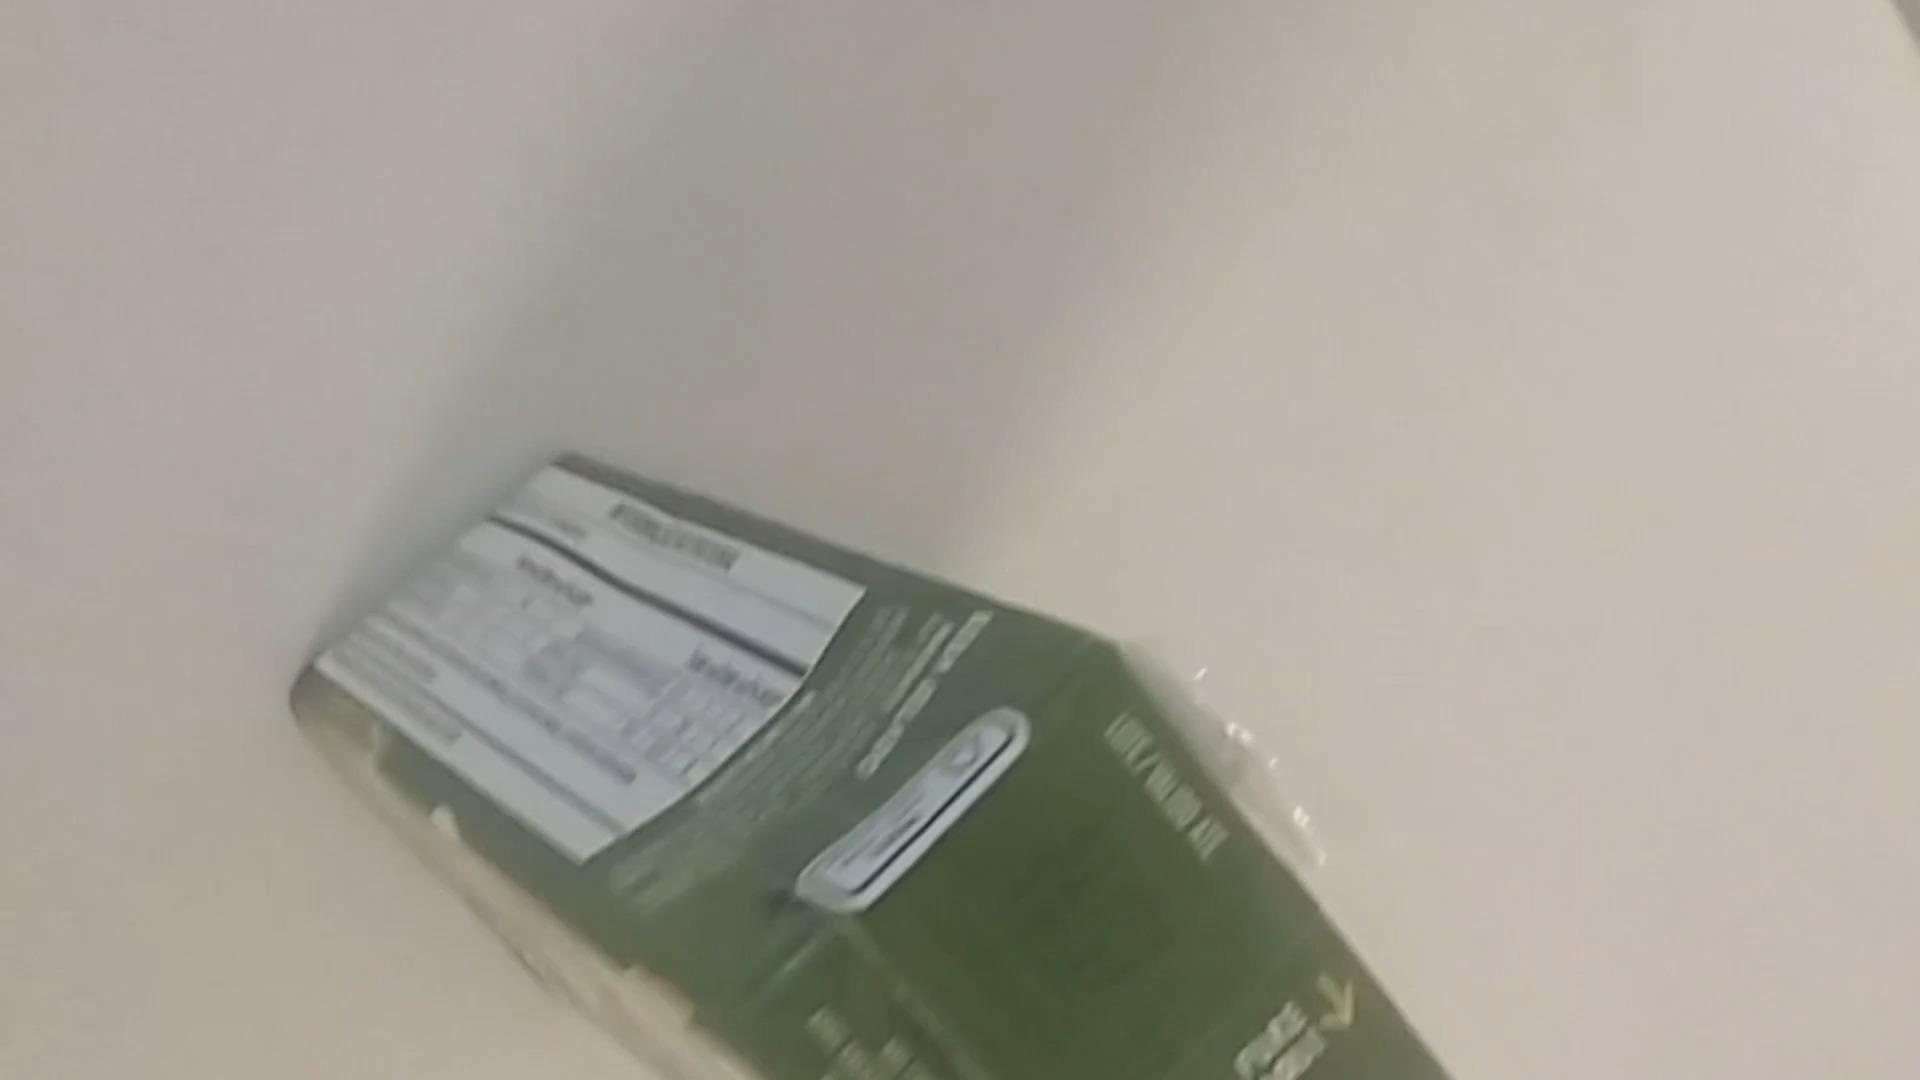coco: (285, 450, 1457, 1080)
